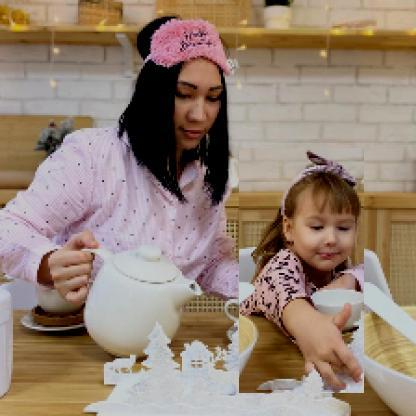child: (240, 150, 366, 395)
